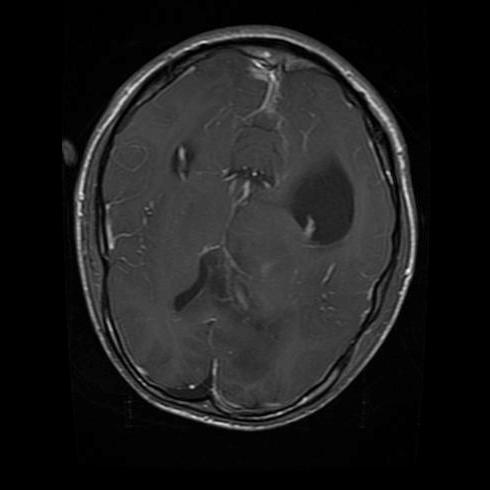Tumour-Glioma: (288, 164, 358, 250)
